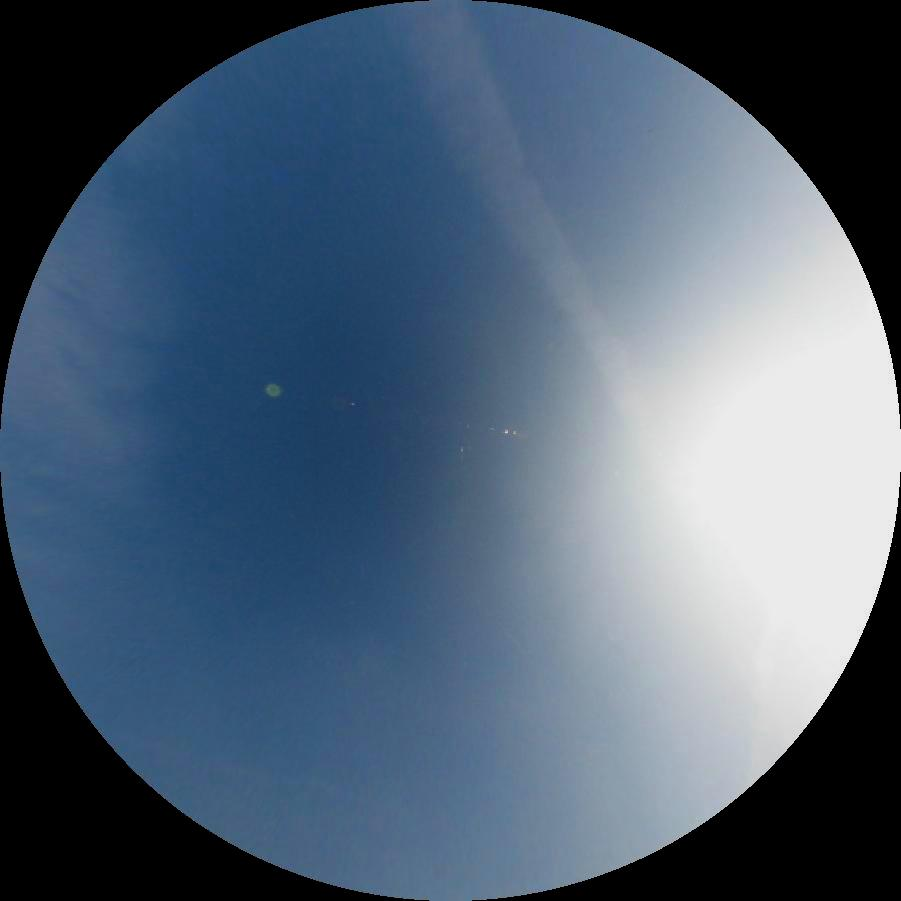contrail veryold: (373, 0, 675, 453)
sun: (649, 349, 901, 647)
